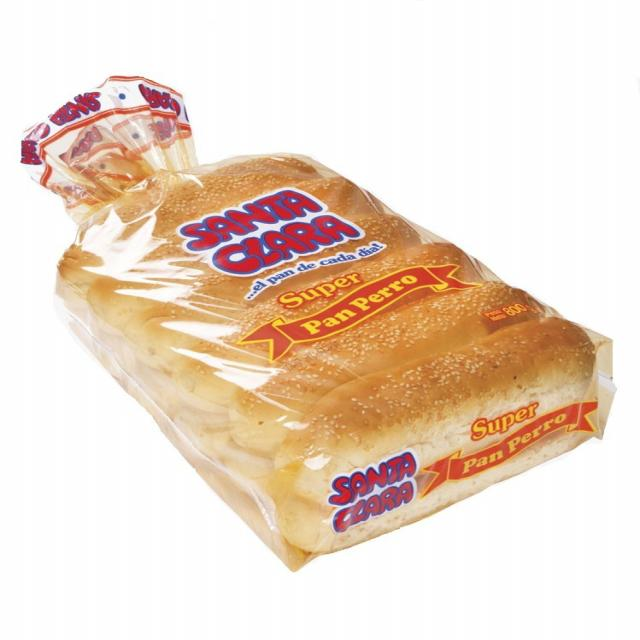Paquete: (17, 69, 622, 572)
